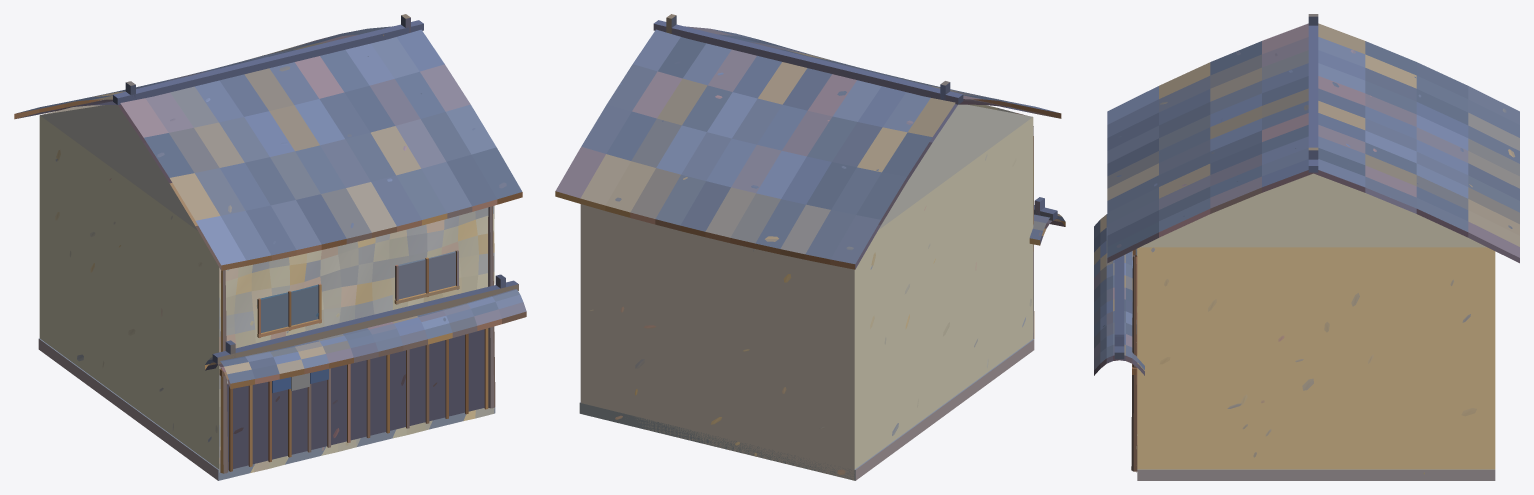
File: HK_Machiya_C.lod.glb
The picture shows the model from 3 angles, left to right: view 1: azimuth 30°, elevation 25°; view 2: azimuth 150°, elevation 25°; view 3: azimuth 270°, elevation 25°; orthographic projection.
Visible parts, largest first — view 1: HK_Machiya_C; view 2: HK_Machiya_C; view 3: HK_Machiya_C.
Part boxes in pixels (x1,y1,x2,y2): HK_Machiya_C: (14,14,526,480); HK_Machiya_C: (555,14,1065,480); HK_Machiya_C: (1094,14,1519,480).
Size of the model in its own units: 9.36 by 9.7 by 11.3.
